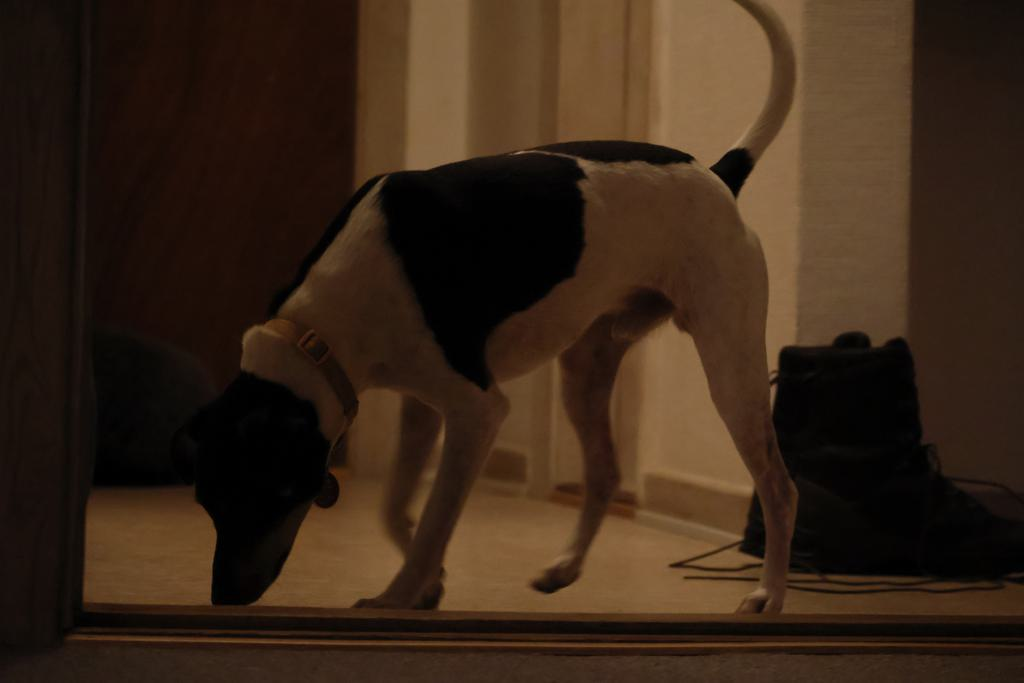Dog: (161, 0, 810, 628)
